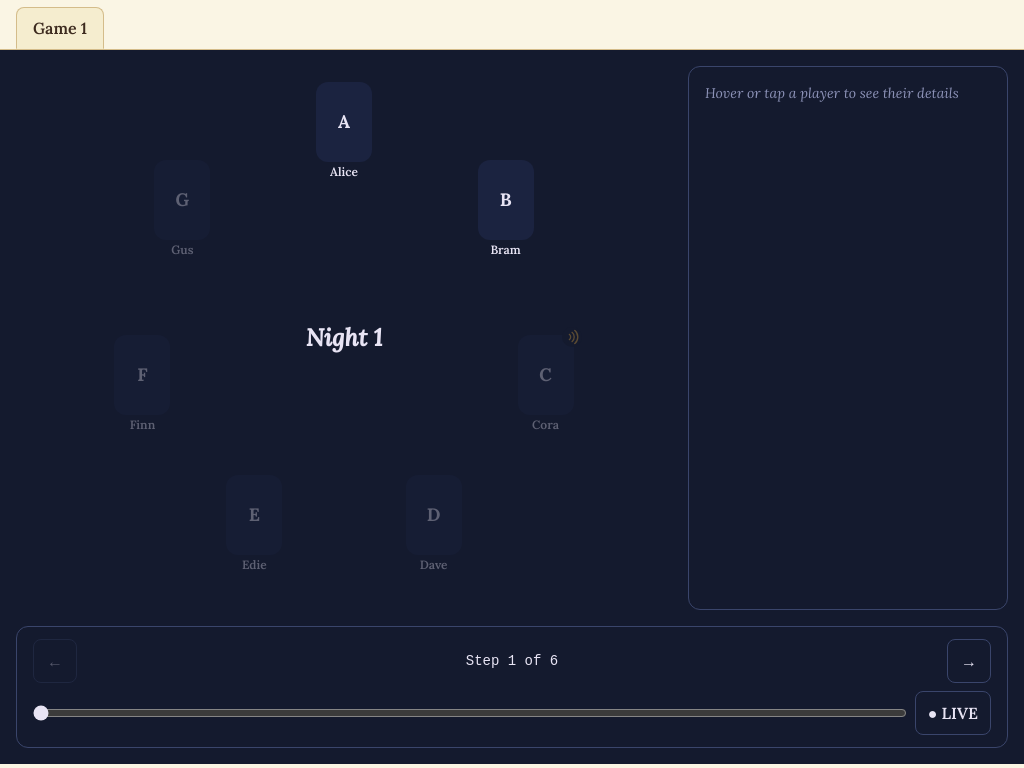
Test case: stepping › a finished game starts at step 1 and next/back change the displayed beat
Check: the text "Step 1 of 6" is shown, box [466,653,558,669]
Check: the heading with test id "centre-banner" reads "Night 1", box [306,322,382,353]
Click the button named "Next" at (969, 661), box [947,639,991,683]
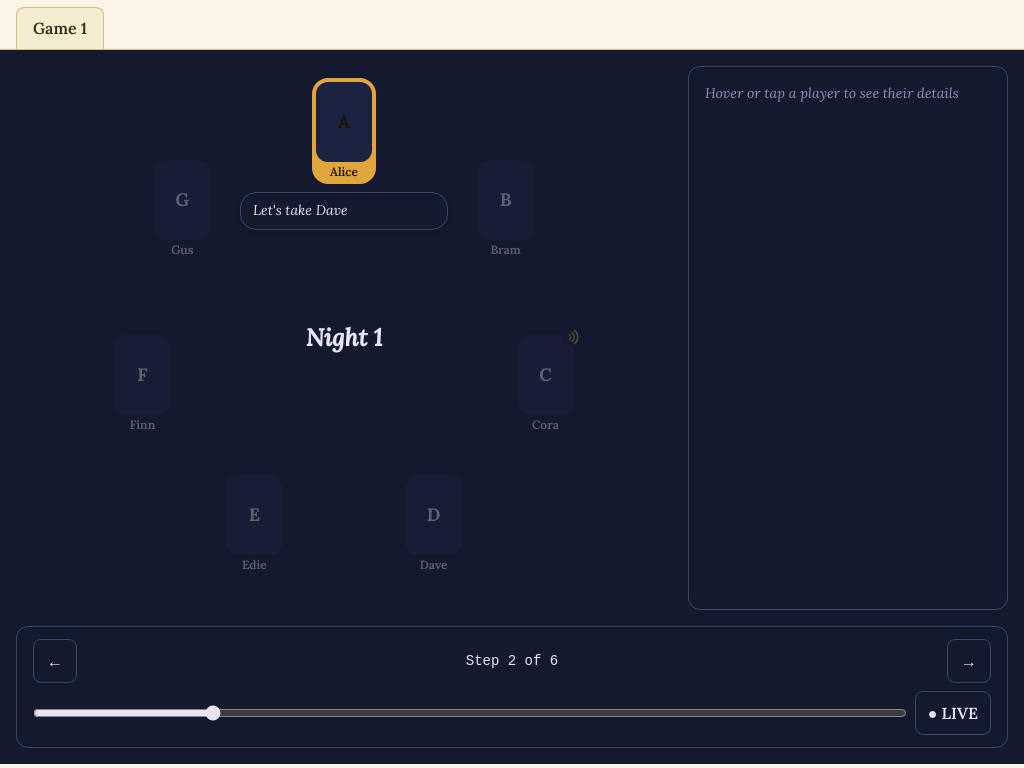
Click the button named "Next" at (969, 661), box [947,639,991,683]
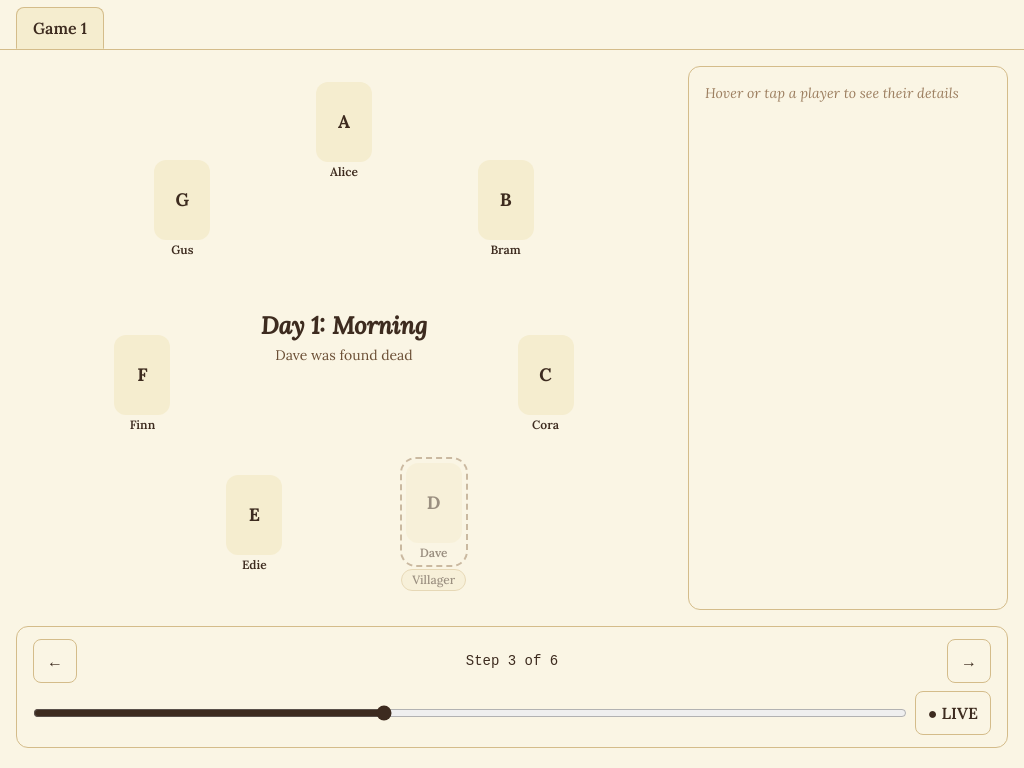
Check: the text "Step 3 of 6" is shown, box [466,653,558,669]
Check: the heading with test id "centre-banner" reads "Day 1: Morning", box [261,310,427,341]
Click the button named "Previous" at (55, 661), box [33,639,77,683]
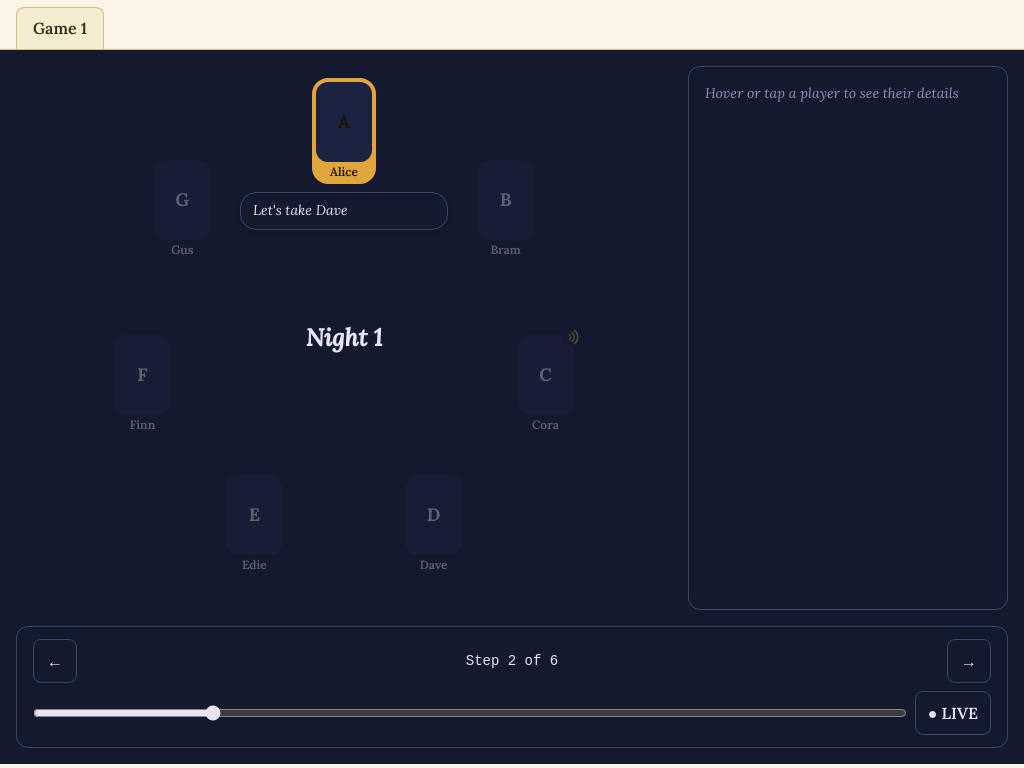
Check: the text "Step 2 of 6" is shown, box [466,653,558,669]
